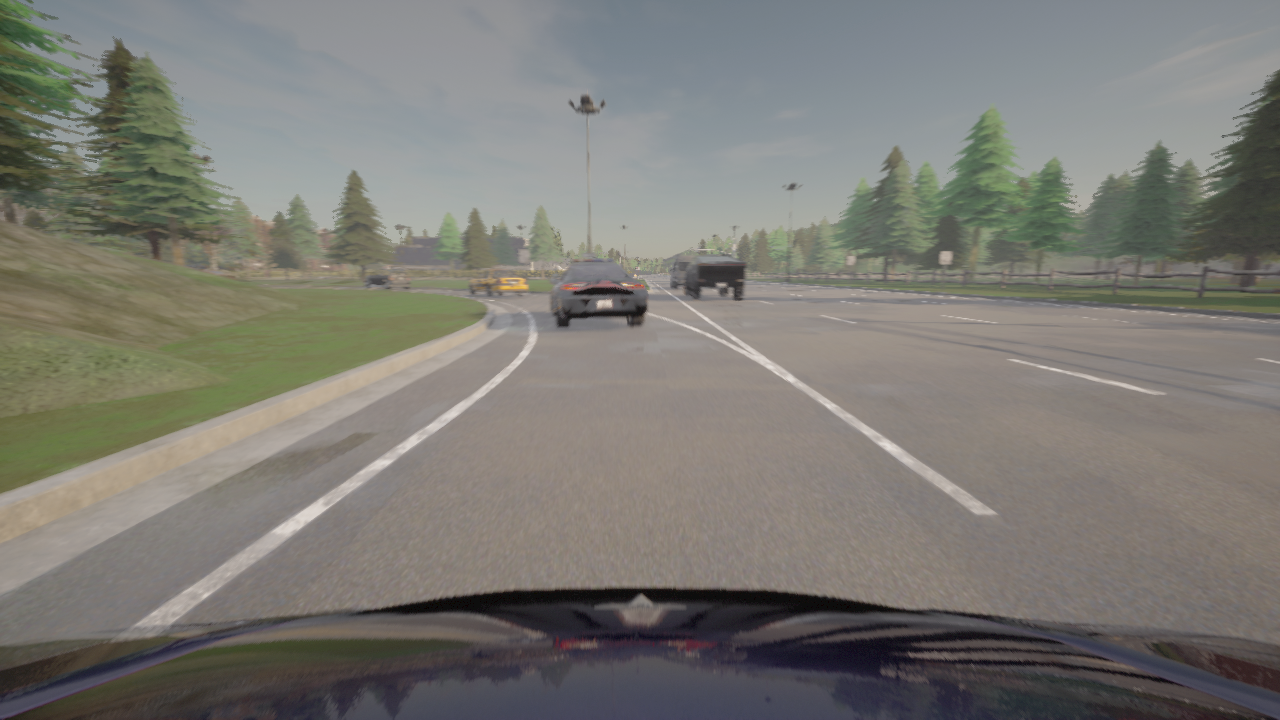cyclist: (0, 588, 1279, 719), (549, 259, 646, 328), (683, 256, 745, 299), (468, 267, 527, 297), (364, 269, 410, 289), (669, 256, 693, 288), (199, 270, 236, 279)
